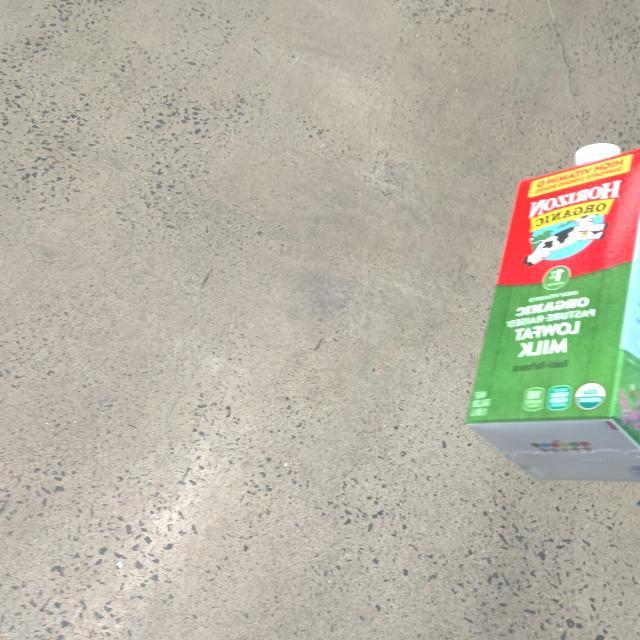Milk: (460, 140, 640, 486)
